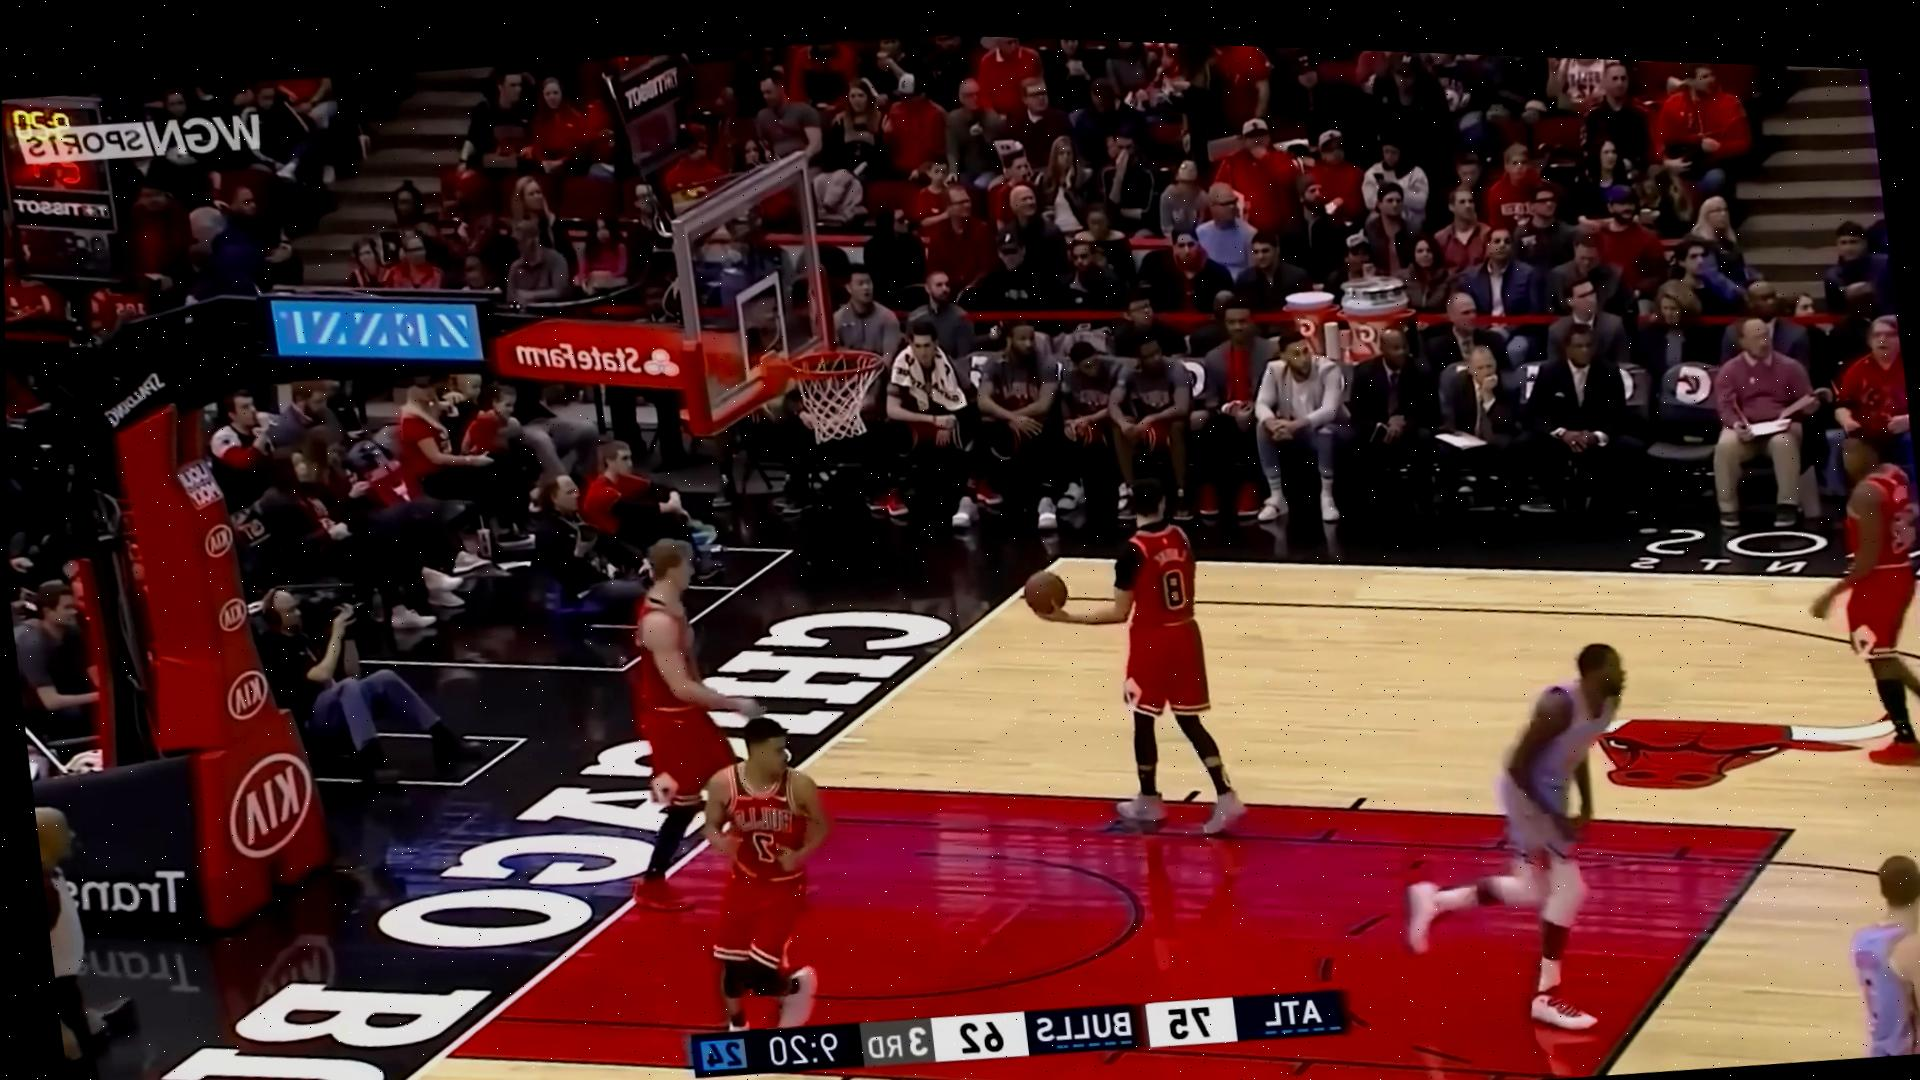no_foul: (1002, 431, 1328, 832)
